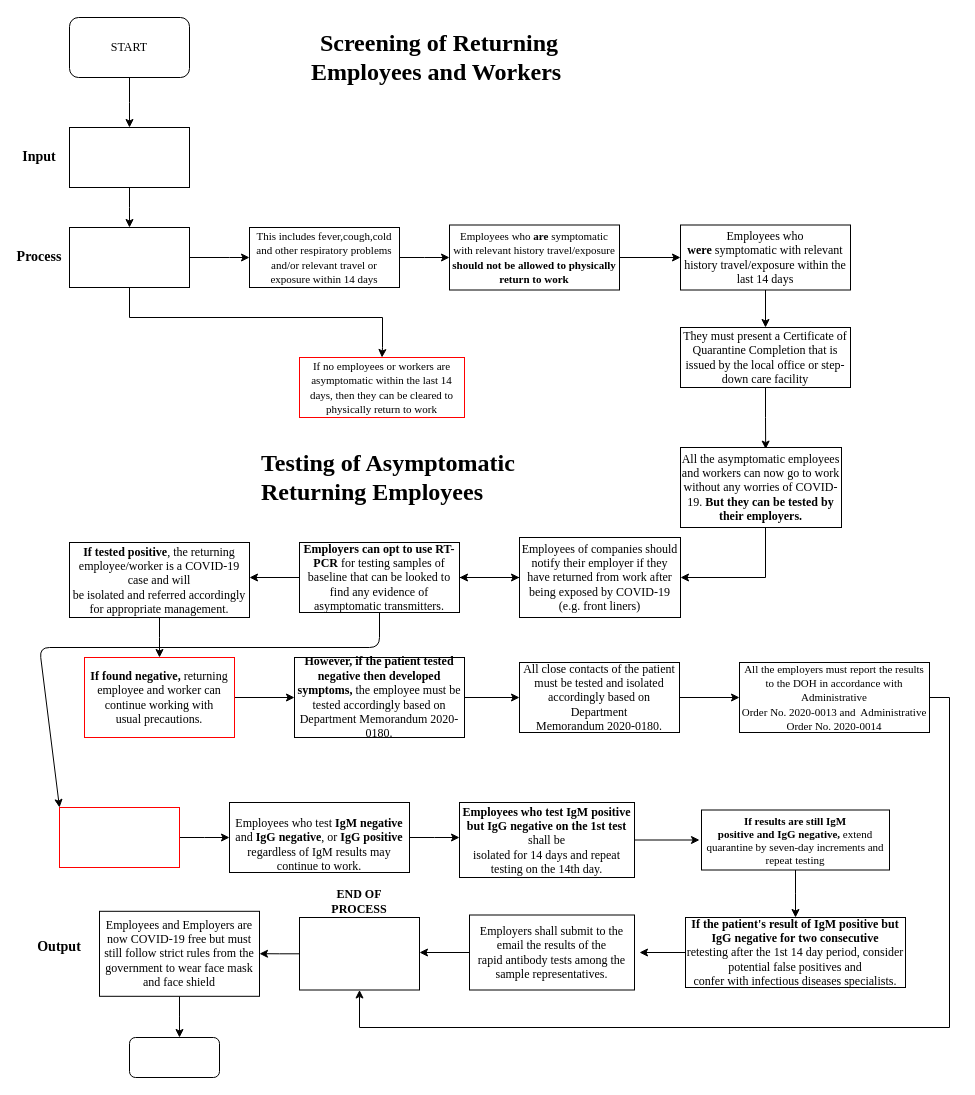
This 975x1095 diagram has some shape labels left out. The centre of each missing label's shape, as x and y in pixels:
"Alternatively , they can test using the FDA-approved rapid antibody tests." goes at (119,837).
"Cost of the test not covered by PhilHealth and shall be payed by the employer." goes at (359,953).
"END" goes at (174,1057).
"Returning employees and workers should notify their place of employment" goes at (129,157).
"The employees and workers should be screened for symptoms of COVID-19" goes at (129,257).
